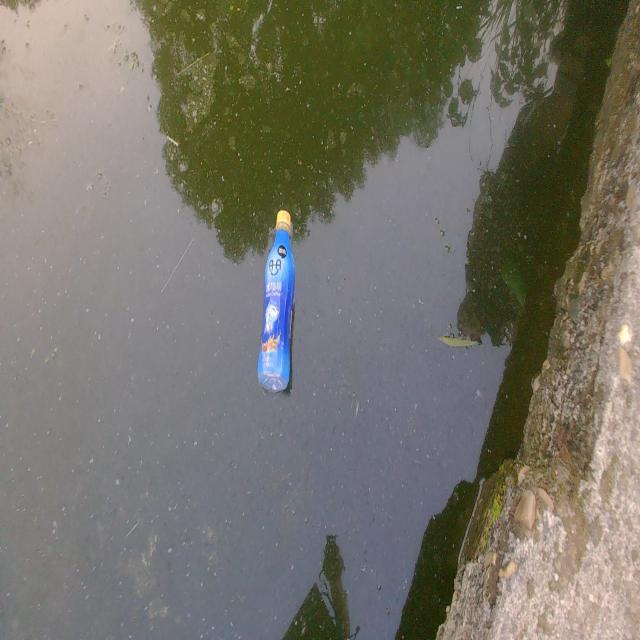bottle: (252, 198, 309, 398)
